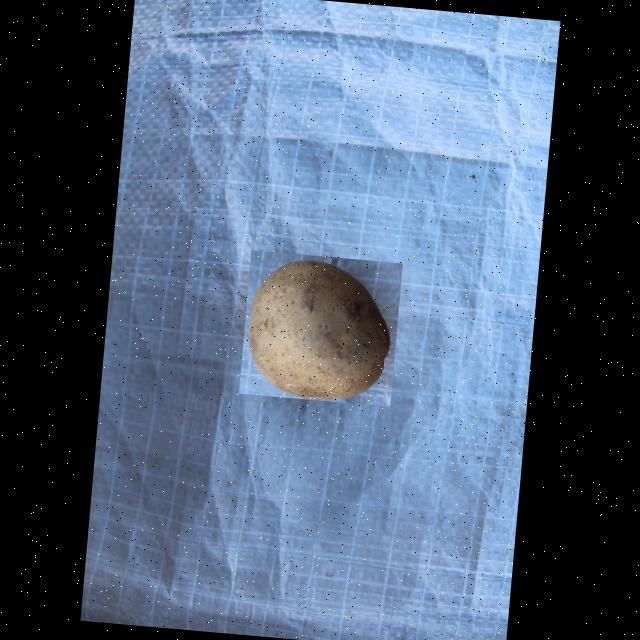Diseased-fungal potato: (238, 248, 402, 406)
